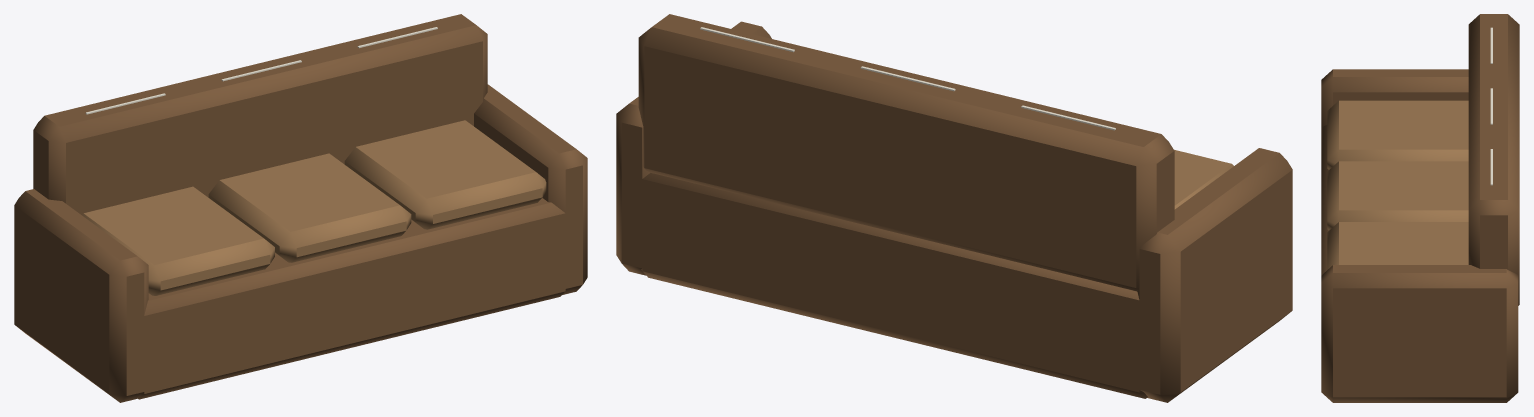
Rendered from house_sofa.glb.
The picture shows the model from 3 angles, left to right: view 1: azimuth 30°, elevation 25°; view 2: azimuth 150°, elevation 25°; view 3: azimuth 270°, elevation 25°; orthographic projection. The views are drawn at different scales.
Parts seen in each view (by area): view 1: HouseSofa; view 2: HouseSofa; view 3: HouseSofa.
Boxes of the visible parts, x1=… form: HouseSofa: x1=14, y1=14, x2=587, y2=402; HouseSofa: x1=616, y1=14, x2=1292, y2=402; HouseSofa: x1=1321, y1=14, x2=1519, y2=402.
Size of the model in its own units: 2.18 by 0.93 by 0.855.
